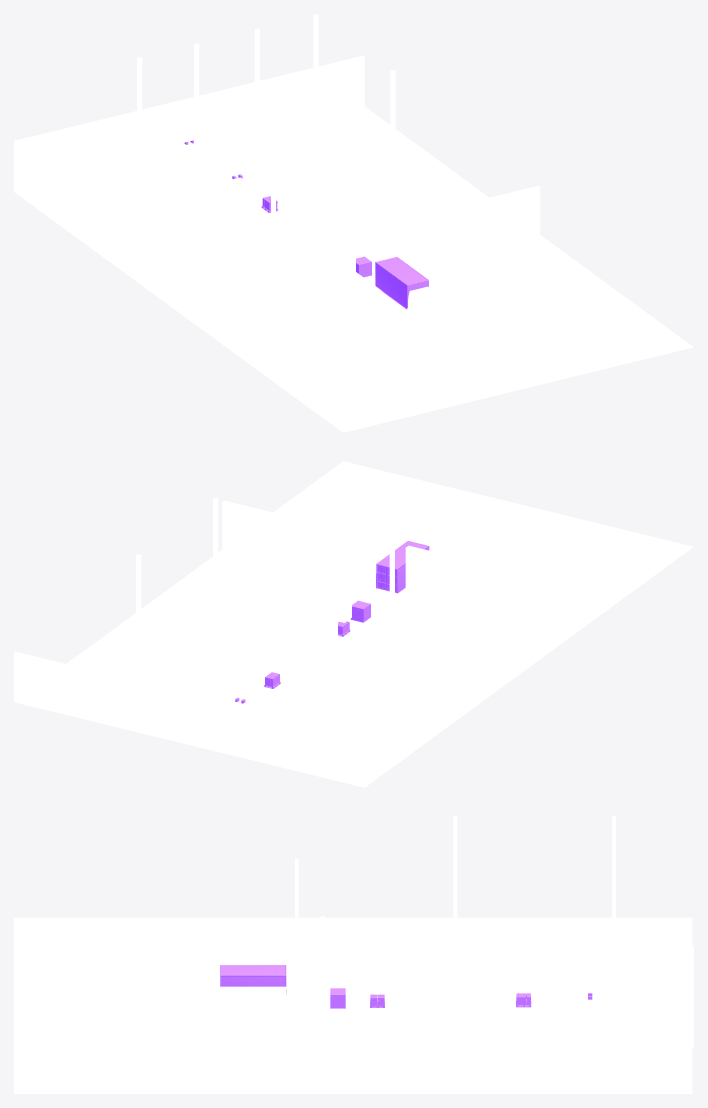
The model's file is fulfillment-draco.gltf.
3 renders of one model, top to bottom at view 1: azimuth 30°, elevation 25°; view 2: azimuth 150°, elevation 25°; view 3: azimuth 270°, elevation 25°, orthographic. The views are drawn at different scales.
Parts seen in each view (by area): view 1: Building, left wall, right wall, container (×3), body (×3), col 2 (×2), col 4 (×2), col 3 (×2), col 1 (×2); view 2: Building, left wall, right wall, right door, container (×2), col 2 (×2), col 1 (×2), col 3 (×2), col 4 (×2), left door; view 3: Building, container (×3), body (×3), right door, col 2 (×2), left door, right wall.
Boxes of the visible parts, x1,y1,x2,y2 form: Building: [14, 55, 693, 432]; left wall: [219, 231, 355, 328]; right wall: [404, 185, 540, 272]; container (×3): [329, 247, 471, 319]; body (×3): [325, 276, 483, 332]; col 2 (×2): [313, 14, 395, 212]; col 4 (×2): [254, 28, 336, 223]; col 3 (×2): [194, 43, 275, 241]; col 1 (×2): [137, 57, 218, 255]; Building: [14, 461, 693, 787]; left wall: [407, 545, 543, 643]; right wall: [222, 500, 358, 598]; right door: [323, 534, 355, 602]; container (×2): [358, 531, 428, 592]; col 2 (×2): [136, 497, 218, 681]; col 1 (×2): [312, 540, 394, 725]; col 3 (×2): [255, 526, 337, 711]; col 4 (×2): [195, 512, 277, 696]; left door: [405, 547, 415, 624]; Building: [14, 917, 692, 1093]; container (×3): [221, 942, 285, 1021]; body (×3): [197, 948, 293, 1028]; right door: [299, 951, 324, 1027]; col 2 (×2): [453, 904, 615, 1051]; left door: [299, 915, 324, 960]; right wall: [295, 951, 298, 1084].
Bounding box in the file's own units: 5237 × 2011 × 8536.
